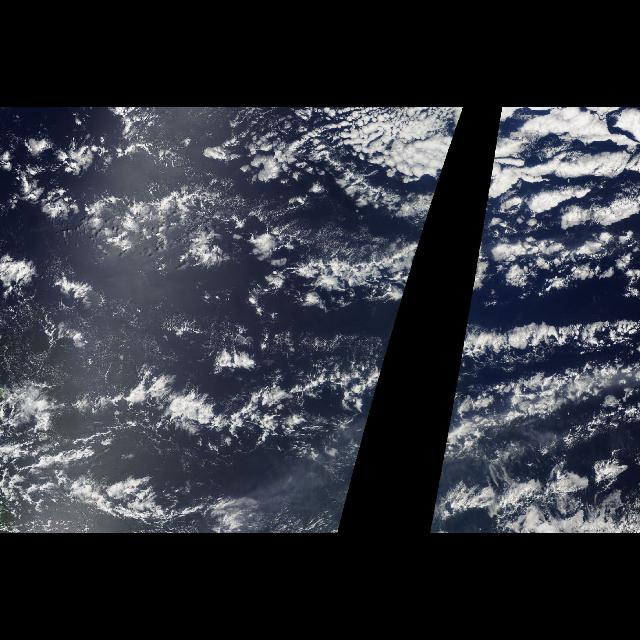Fish: (4, 311, 398, 533), (426, 311, 640, 533), (266, 241, 422, 305)
Sugar: (10, 310, 94, 406)
